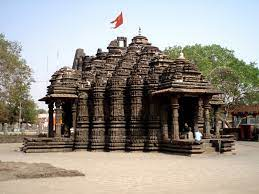Temple: (33, 28, 238, 161)
